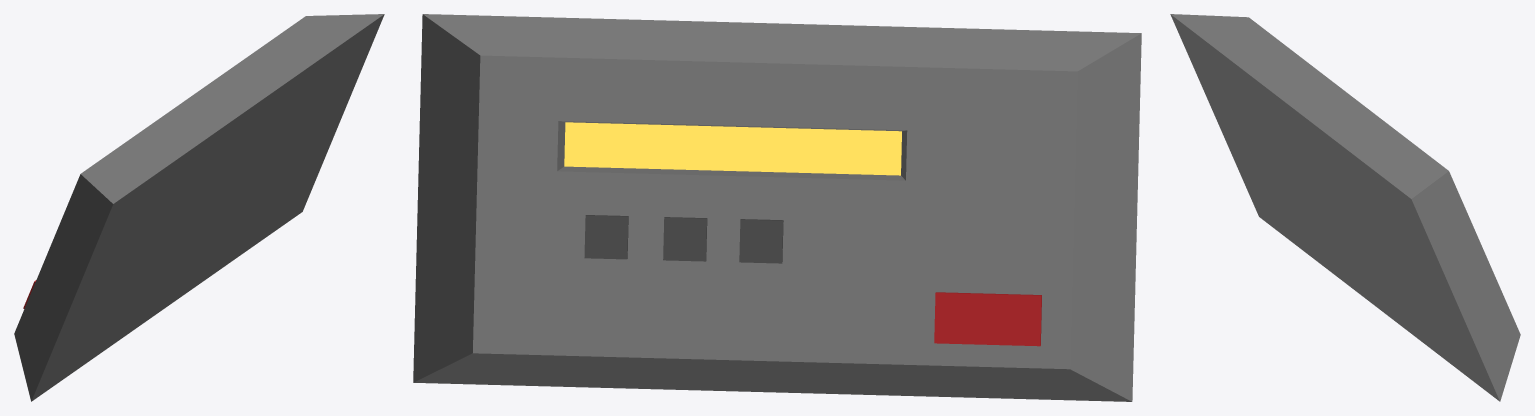
The model's file is WageCageControlPanel.glb.
3 views of the same model, side by side, from view 1: azimuth 30°, elevation 25°; view 2: azimuth 150°, elevation 25°; view 3: azimuth 270°, elevation 25° (orthographic). The views are drawn at different scales.
Visible parts, largest first — view 1: ControlPanel; view 2: ControlPanel, RedButton, Button 2, Button, Button 1; view 3: ControlPanel.
Part boxes in pixels (<box>): ControlPanel: <box>14,14,384,401</box>; ControlPanel: <box>413,14,1141,401</box>; RedButton: <box>934,292,1041,346</box>; Button 2: <box>739,219,783,263</box>; Button: <box>584,215,628,259</box>; Button 1: <box>663,217,707,261</box>; ControlPanel: <box>1170,14,1520,401</box>.
Size of the model in its own units: 0.0837 by 0.0423 by 0.0591.
